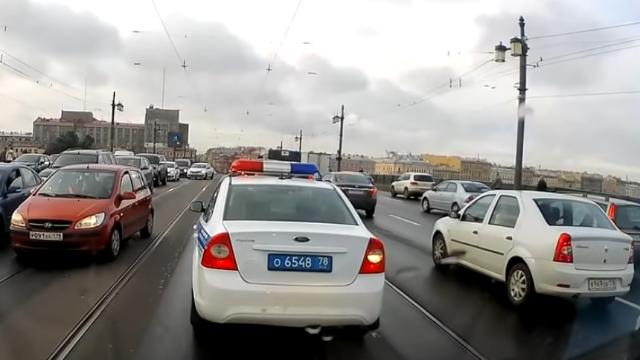non emergency car: (432, 190, 634, 308), (12, 163, 155, 261), (2, 163, 45, 247), (422, 181, 494, 218), (41, 151, 118, 182), (325, 172, 379, 216), (391, 172, 437, 200), (117, 158, 154, 187), (138, 154, 168, 187), (189, 163, 216, 182), (177, 161, 192, 180), (167, 162, 179, 184)
police car: (191, 160, 386, 342)
